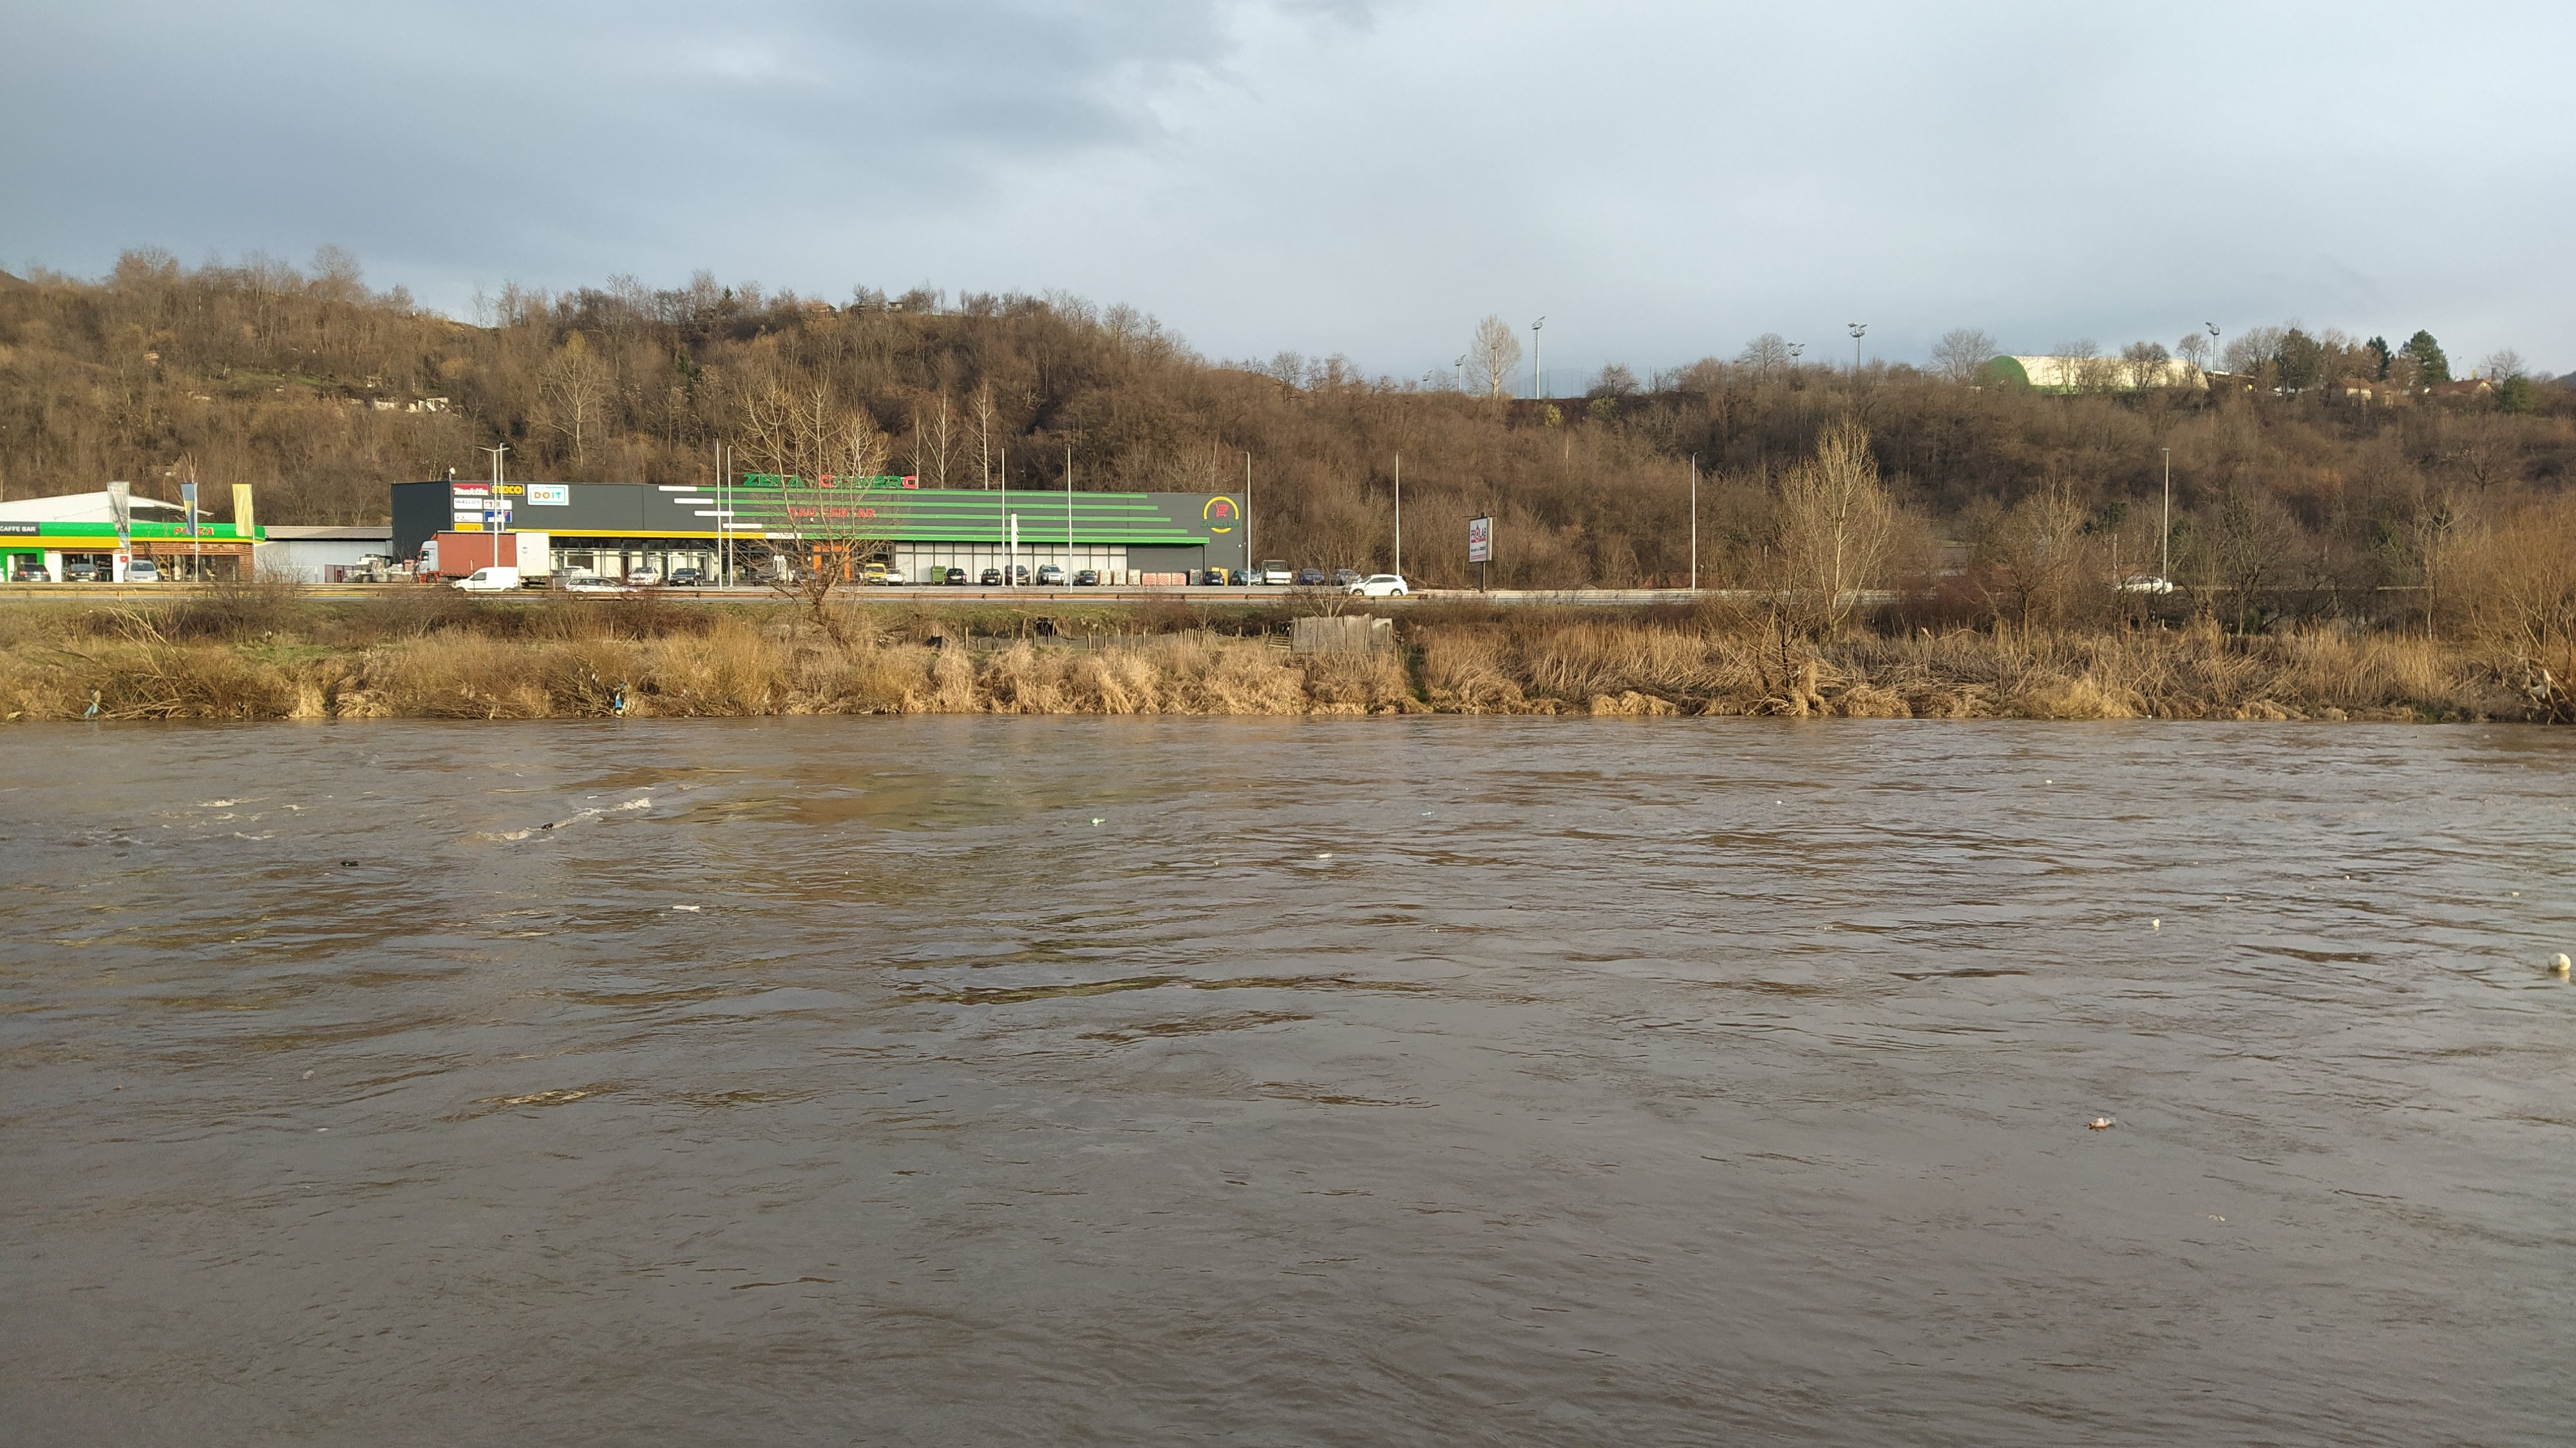Plastic Bottle: (2088, 1117, 2116, 1129), (672, 905, 699, 912), (303, 1069, 313, 1080), (1316, 851, 1332, 859), (540, 823, 554, 830), (1090, 816, 1104, 823), (341, 860, 357, 866), (1419, 811, 1435, 816), (1813, 926, 1833, 929), (2151, 919, 2158, 926), (587, 795, 596, 798), (2045, 779, 2051, 782), (2146, 715, 2150, 717)
